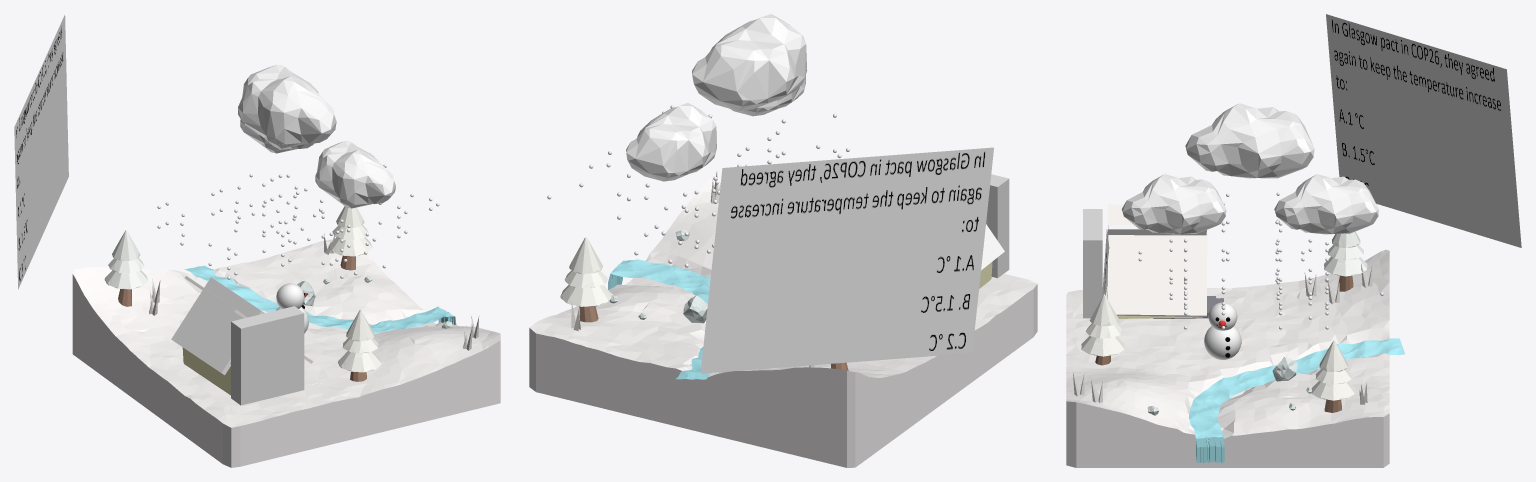
Rendered from snowQ5.glb.
3 renders of one model, left to right at view 1: azimuth 30°, elevation 25°; view 2: azimuth 150°, elevation 25°; view 3: azimuth 270°, elevation 25°, orthographic. The views are drawn at different scales.
Parts seen in each view (by area): view 1: terrain, pPlane2, Cube, cloud, house:pCube6, pPlatonic1, water, house:pCube4, pCylinder1, trees:pCylinder8, trees:pCylinder1, pSphere117 (+3 smaller); view 2: pPlane2, terrain, cloud, clouds:pPlatonic1, water, Cube, trees:pCylinder1, trees:pCylinder4, pPlatonic1, trees:pCylinder3, house:pCube6, stone:pPlatonic2; view 3: terrain, pPlane2, house:pCube5, cloud, pPlatonic1, clouds:pPlatonic1, water, Cube, pSphere116, pCylinder1, trees:pCylinder1, trees:pCylinder8 (+4 smaller).
Boxes of the visible parts, left/top/right/bottom form: terrain: left=72, top=239, right=500, bottom=467; pPlane2: left=14, top=15, right=68, bottom=289; Cube: left=231, top=306, right=304, bottom=405; cloud: left=238, top=64, right=336, bottom=148; house:pCube6: left=171, top=277, right=264, bottom=374; pPlatonic1: left=315, top=141, right=395, bottom=208; water: left=184, top=265, right=456, bottom=332; house:pCube4: left=182, top=347, right=230, bottom=394; pCylinder1: left=338, top=351, right=381, bottom=372; trees:pCylinder8: left=104, top=270, right=148, bottom=289; trees:pCylinder1: left=328, top=237, right=372, bottom=256; pSphere117: left=276, top=283, right=304, bottom=308; pPlane2: left=700, top=147, right=993, bottom=373; terrain: left=529, top=178, right=1037, bottom=467; cloud: left=692, top=14, right=807, bottom=110; clouds:pPlatonic1: left=626, top=103, right=716, bottom=181; water: left=608, top=259, right=712, bottom=379; Cube: left=987, top=174, right=1009, bottom=278; trees:pCylinder1: left=560, top=284, right=612, bottom=306; trees:pCylinder4: left=569, top=237, right=602, bottom=274; pPlatonic1: left=730, top=75, right=805, bottom=116; trees:pCylinder3: left=564, top=270, right=607, bottom=288; house:pCube6: left=981, top=224, right=1004, bottom=270; stone:pPlatonic2: left=683, top=295, right=707, bottom=323; terrain: left=1066, top=249, right=1389, bottom=467; pPlane2: left=1326, top=14, right=1521, bottom=247; house:pCube5: left=1108, top=204, right=1207, bottom=316; cloud: left=1185, top=103, right=1314, bottom=178; pPlatonic1: left=1121, top=174, right=1226, bottom=234; clouds:pPlatonic1: left=1274, top=174, right=1378, bottom=234; water: left=1189, top=338, right=1404, bottom=463; Cube: left=1083, top=209, right=1102, bottom=318; pSphere116: left=1204, top=326, right=1241, bottom=359; pCylinder1: left=1081, top=336, right=1124, bottom=356; trees:pCylinder1: left=1311, top=381, right=1355, bottom=400; trees:pCylinder8: left=1324, top=257, right=1367, bottom=276.
Size of the model in its own units: 0.4613 by 0.3485 by 0.4738.
Materials: 28 (2 with a texture image).
